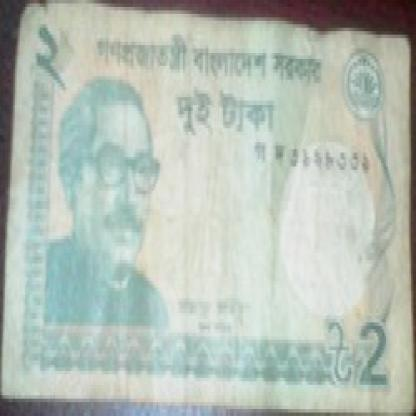two taka: (359, 319, 396, 406), (28, 21, 72, 90)
